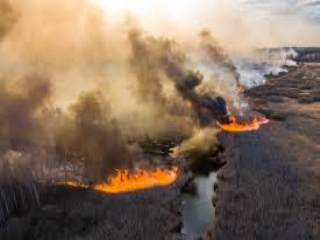fire: (83, 160, 178, 192), (218, 117, 270, 133)
smoke: (5, 76, 121, 160), (126, 34, 226, 120), (239, 41, 295, 91)
